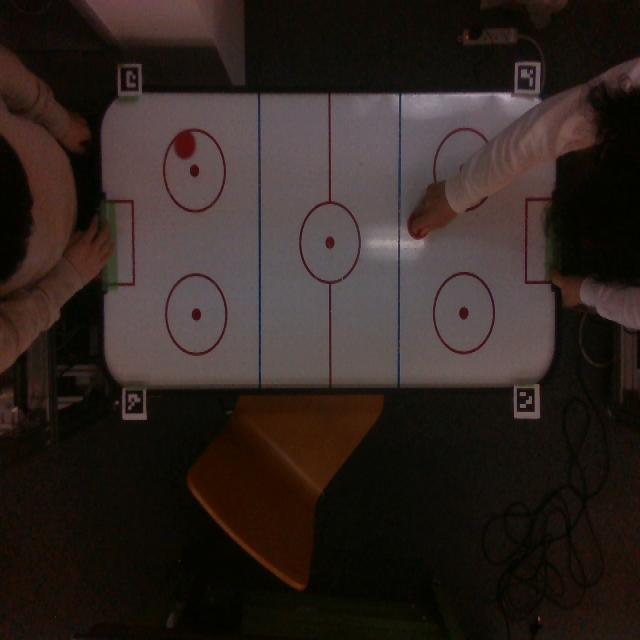puck: (174, 130, 197, 159)
